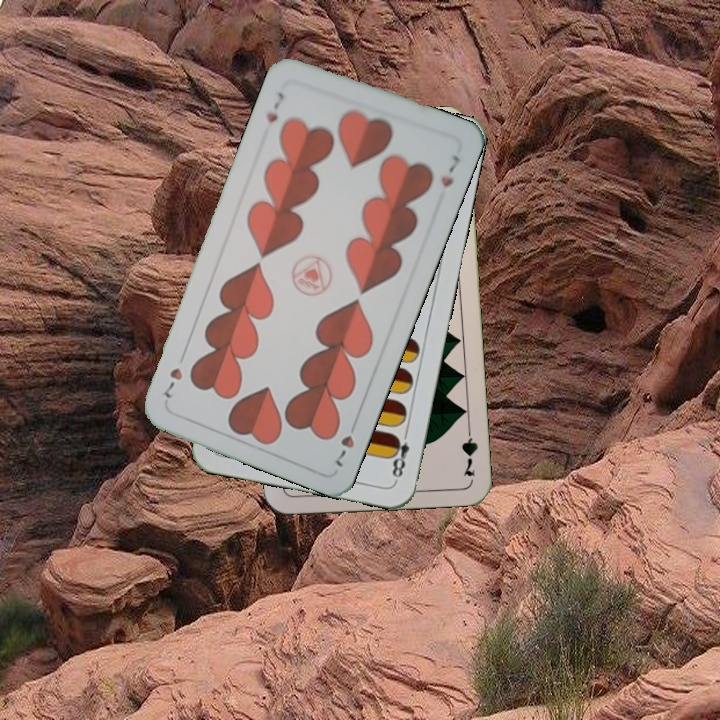E8: (386, 425, 412, 484)
G7: (457, 420, 480, 479)
H7: (330, 431, 357, 470), (262, 87, 288, 126)
